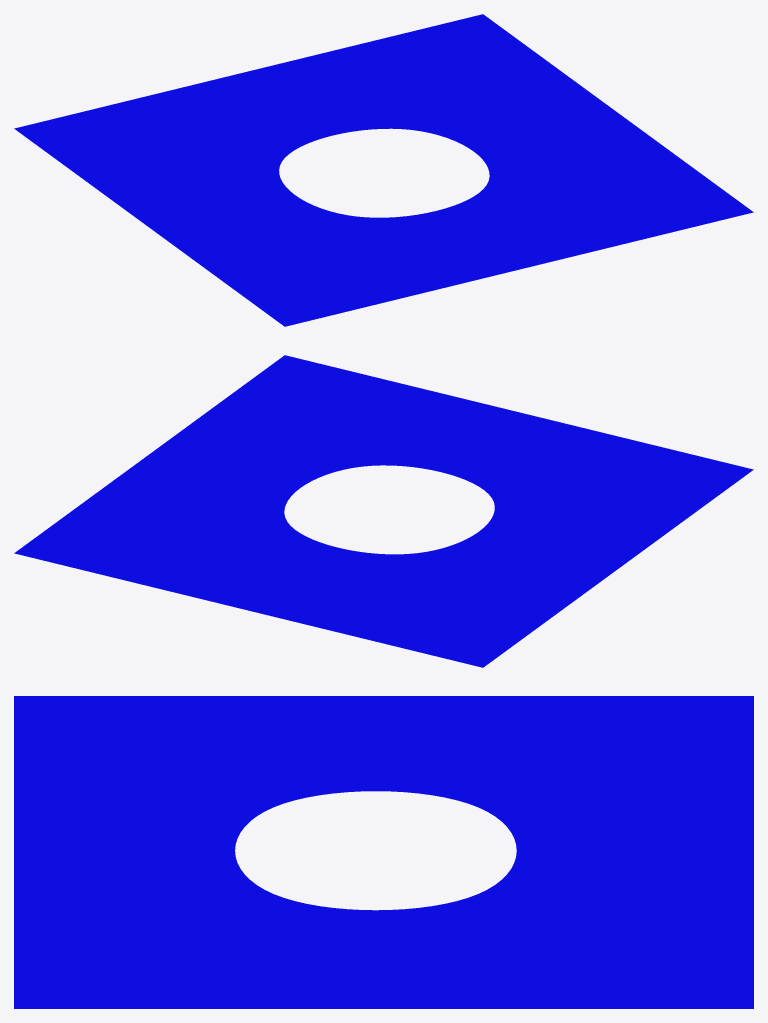
File: bluecylinder.fbx
The picture shows the model from 3 angles, top to bottom: view 1: azimuth 30°, elevation 25°; view 2: azimuth 150°, elevation 25°; view 3: azimuth 270°, elevation 25°; orthographic projection. The views are drawn at different scales.
Parts seen in each view (by area): view 1: Plane, Plane.001; view 2: Plane, Plane.001; view 3: Plane, Plane.001.
Boxes of the visible parts, box(x1,y1,x2,y2) form: Plane: box(131, 66, 637, 280); Plane.001: box(14, 14, 753, 326); Plane: box(136, 402, 642, 616); Plane.001: box(14, 355, 753, 667); Plane: box(36, 707, 714, 993); Plane.001: box(14, 696, 753, 1008).
Size of the model in its own units: 400 by 0.0276 by 400.
